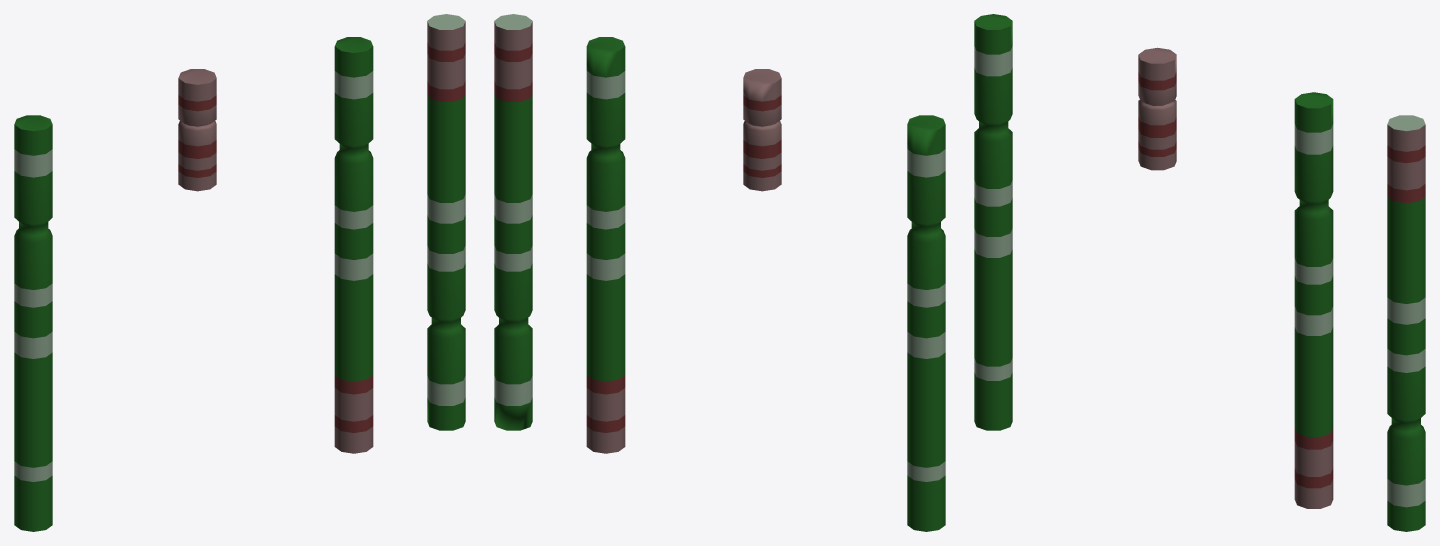
Rendered from translocetion.fbx.
3 renders of one model, left to right at view 1: azimuth 30°, elevation 25°; view 2: azimuth 150°, elevation 25°; view 3: azimuth 330°, elevation 25°, orthographic.
Parts seen in each view (by area): view 1: pCylinder27, pCylinder25, pCylinder28, pCylinder26; view 2: pCylinder27, pCylinder25, pCylinder28, pCylinder26; view 3: pCylinder27, pCylinder25, pCylinder28, pCylinder26.
Part boxes in pixels (bbox=[...]): pCylinder27: bbox=[334, 37, 373, 453]; pCylinder25: bbox=[14, 115, 52, 531]; pCylinder28: bbox=[427, 14, 465, 430]; pCylinder26: bbox=[178, 69, 216, 191]; pCylinder27: bbox=[586, 37, 625, 453]; pCylinder25: bbox=[907, 115, 945, 531]; pCylinder28: bbox=[494, 14, 532, 430]; pCylinder26: bbox=[743, 69, 781, 191]; pCylinder27: bbox=[1294, 92, 1333, 508]; pCylinder25: bbox=[974, 14, 1012, 430]; pCylinder28: bbox=[1387, 115, 1425, 531]; pCylinder26: bbox=[1138, 47, 1176, 170].
Size of the model in its own units: 642 by 561 by 47.97.
